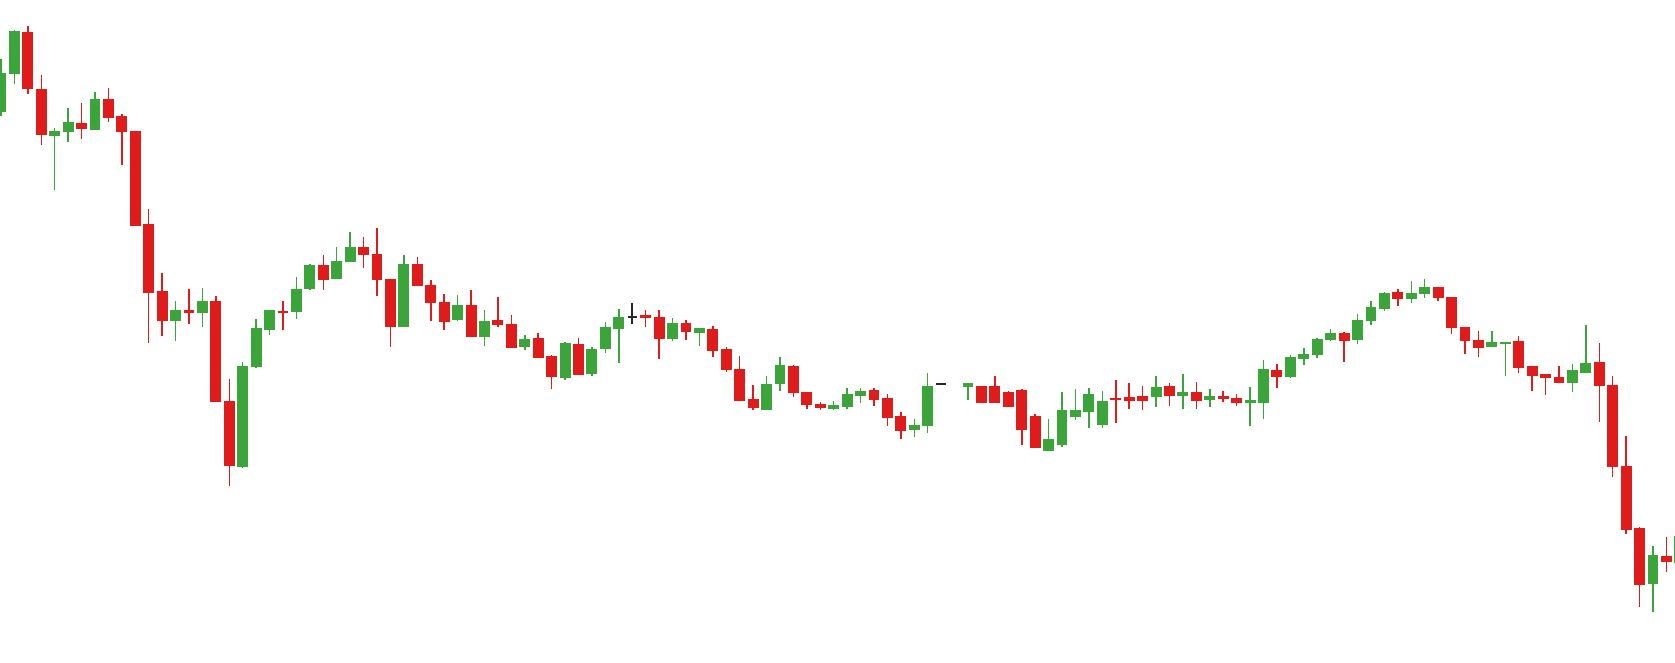sell: (1513, 322, 1593, 386)
